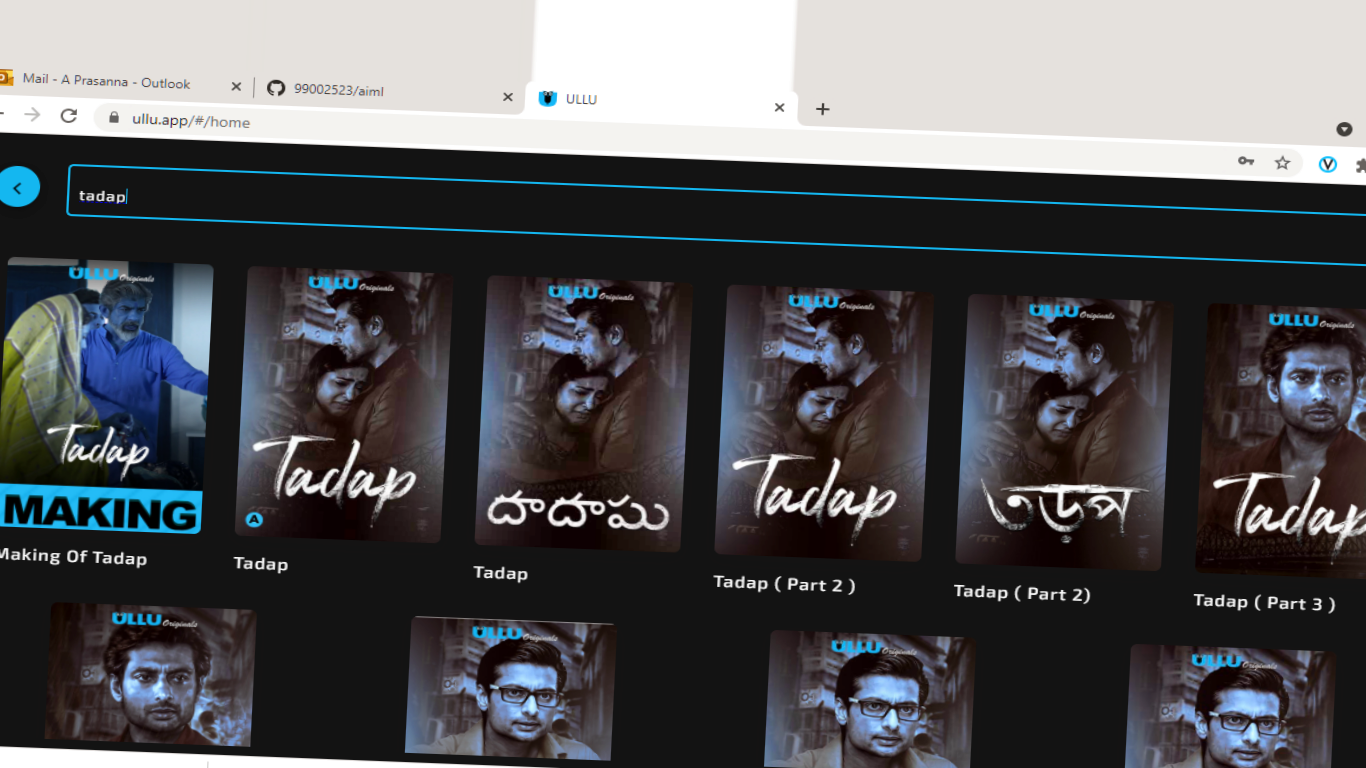backbutton: (1, 163, 42, 218)
searchtextbox: (55, 141, 1360, 279)
